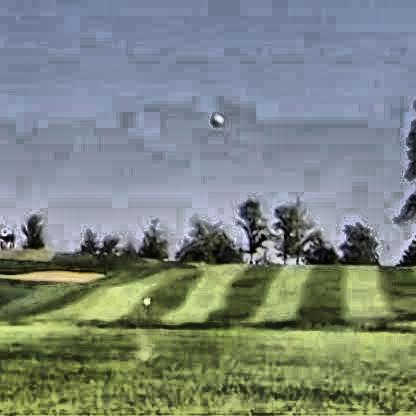golfball: (206, 111, 220, 124)
